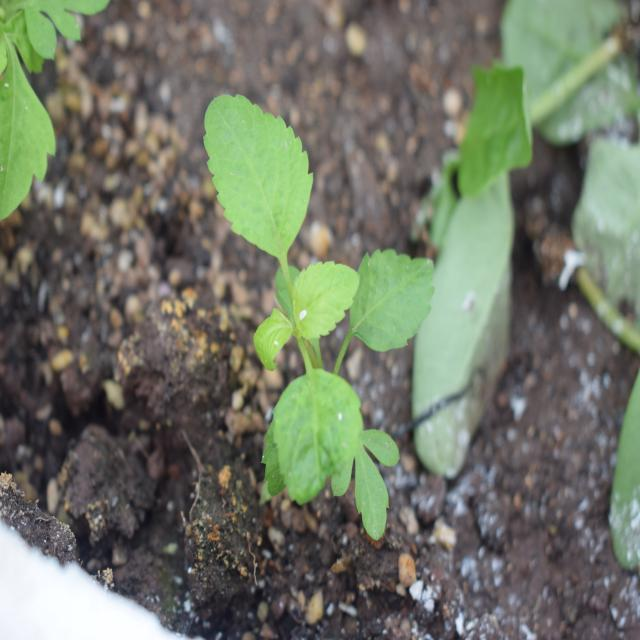Bidens pilosa: (175, 84, 450, 538)
